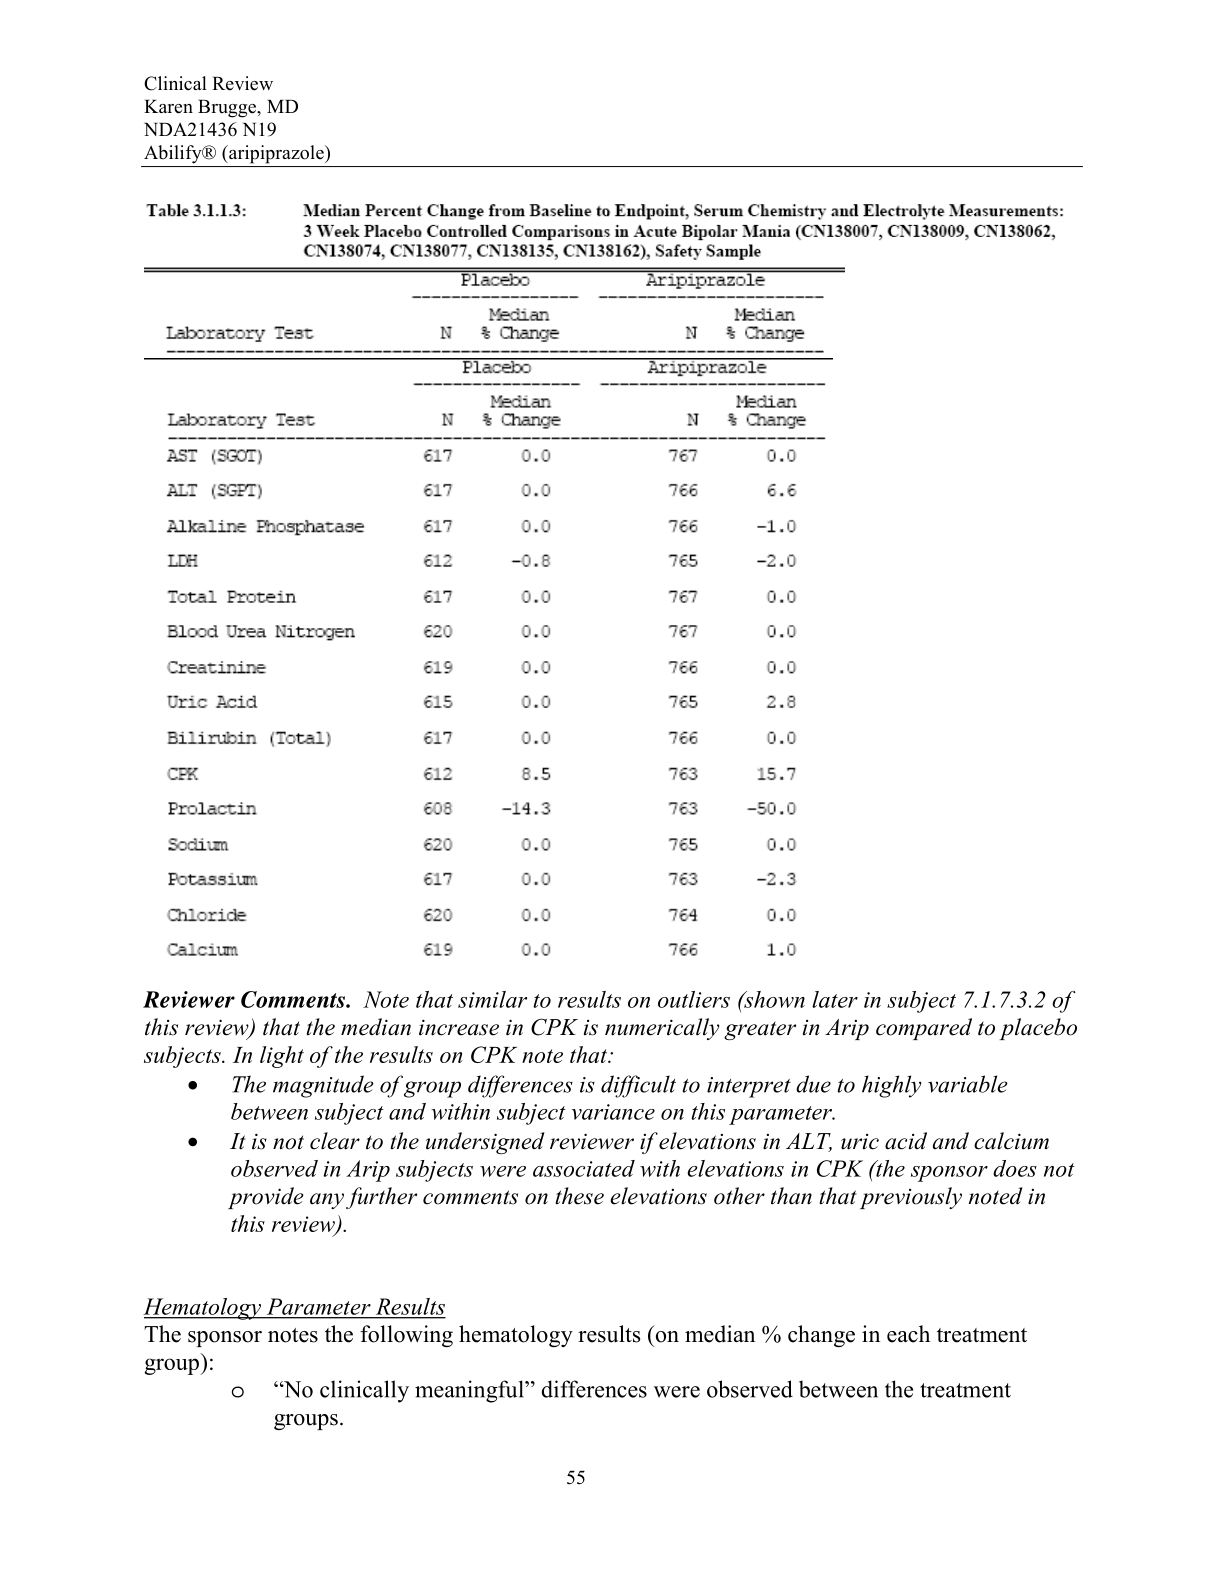partial_lined_merged_cells: (141, 265, 850, 963)
